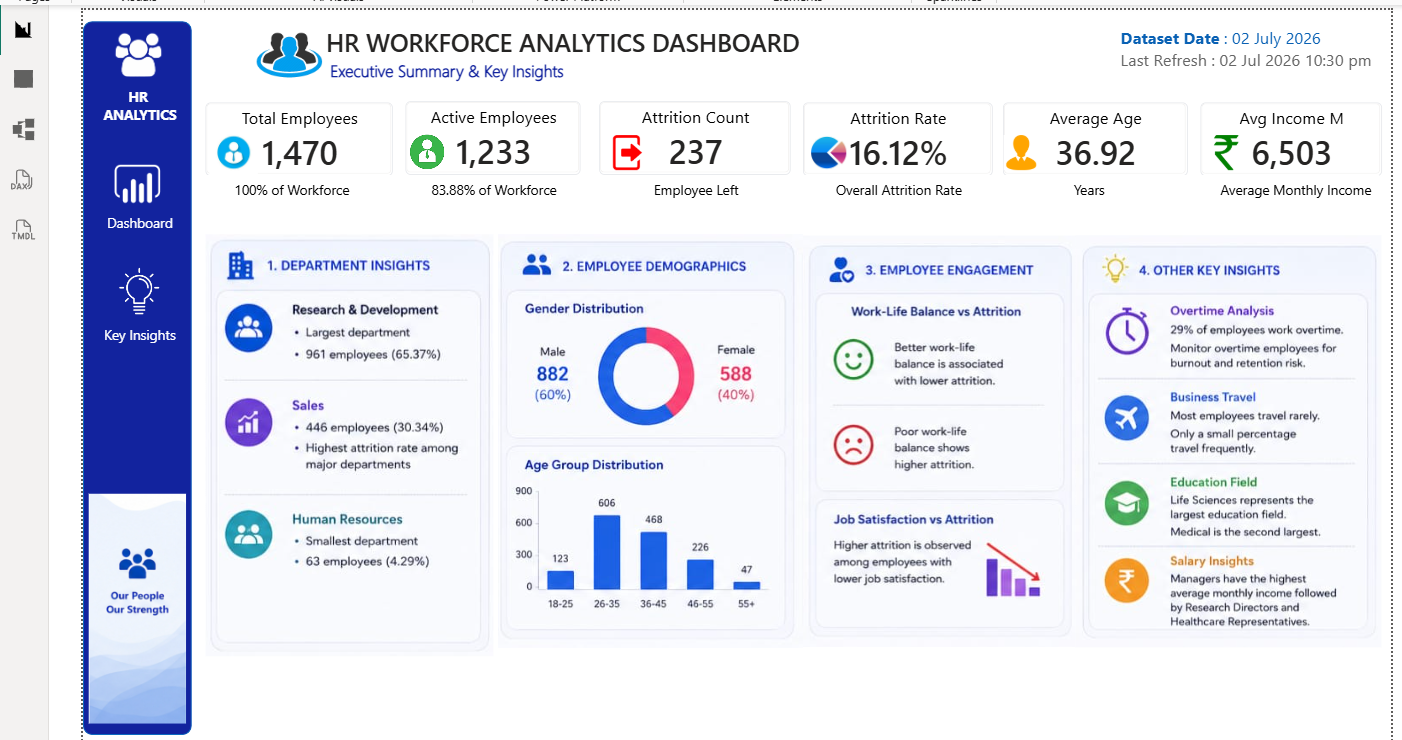

Layout of this report page (visuals, bound fields, positions):
{"tool":"powerbi","page":{"name":"HR_WORKFORCE ANALYTICS","canvas":[1280,720],"ordinal":0},"visuals":[{"type":"shape","box":[9.8,68.5,113.7,639.5],"z":0},{"type":"textbox","box":[199.3,2.4,528.3,86.8],"z":1000},{"type":"textbox","box":[8.6,660.3,111.3,31.8],"z":1000},{"type":"image","box":[155.3,2.4,68.5,66],"z":2000},{"type":"image","box":[12.2,15.9,46.5,36.7],"z":3000},{"type":"textbox","box":[58.7,15.9,108.8,39.1],"z":4000},{"type":"textbox","box":[939.1,2.4,270.2,55],"z":5000},{"type":"cardVisual","fields":{"Data":["hr_analytics employee_data.Total Employees"]},"box":[132.1,68.5,183.4,72.1],"z":6000},{"type":"cardVisual","fields":{"Data":["hr_analytics employee_data.Active Employees"]},"box":[322.8,68.5,171.2,72.1],"z":7000},{"type":"cardVisual","fields":{"Data":["hr_analytics employee_data.Attrition Count"]},"box":[505,68.5,187.1,74.6],"z":8000},{"type":"cardVisual","fields":{"Data":["hr_analytics employee_data.Attrition Rate"]},"box":[700.7,68.5,185.9,74.6],"z":9000},{"type":"cardVisual","fields":{"Data":["hr_analytics employee_data.Average Age"]},"box":[897.6,68.5,181,74.6],"z":10000},{"type":"cardVisual","fields":{"Data":["hr_analytics employee_data.Average Monthly Income"]},"box":[1088.3,68.5,177.3,74.6],"z":11000},{"type":"clusteredColumnChart","title":"EMPLOYEE BY DEPARTMENT","fields":{"Category":["hr_analytics employee_data.Department"],"Y":["CountNonNull(hr_analytics employee_data.EmployeeNumber)"]},"box":[132.1,156.5,303.3,167.5],"z":12000},{"type":"clusteredBarChart","title":"JOB ROLE DISTRIBUTION","fields":{"Category":["hr_analytics employee_data.JobRole"],"Y":["CountNonNull(hr_analytics employee_data.EmployeeNumber)"]},"box":[450,156.5,314.3,167.5],"z":13000},{"type":"donutChart","title":"GENDER DISTRIBUTION","fields":{"Category":["hr_analytics employee_data.Gender"],"Y":["CountNonNull(hr_analytics employee_data.EmployeeNumber)"]},"box":[775.3,157.7,250.7,167.5],"z":14000},{"type":"cardVisual","fields":{"Data":["hr_analytics employee_data.Total Employees"]},"box":[864.5,223.8,74.6,56.3],"z":15000},{"type":"columnChart","title":"AGE GROUP DISTRIBUTION","fields":{"Category":["hr_analytics employee_data.Age Group"],"Y":["CountNonNull(hr_analytics employee_data.EmployeeNumber)"]},"box":[1039.4,157.7,226.2,166.3],"z":16000},{"type":"lineClusteredColumnComboChart","title":"ATTRITION BY DEPARTMENT","fields":{"Category":["hr_analytics employee_data.Department"],"Y":["hr_analytics employee_data.Attrition Count"],"Y2":["hr_analytics employee_data.Attrition Rate"]},"box":[132.1,336.3,303.3,196.9],"z":17000},{"type":"donutChart","title":"OVERTIME VS ATTRITION","fields":{"Category":["hr_analytics employee_data.OverTime"],"Y":["CountNonNull(hr_analytics employee_data.Attrition)"]},"box":[450,336.3,236,196.9],"z":18000},{"type":"lineChart","title":" WORK-LIFE-BALANCE VS ATTRITION","fields":{"Category":["hr_analytics employee_data.WorkLifeBalance"],"Y":["hr_analytics employee_data.Attrition Rate"]},"box":[700.7,336.3,275.1,196.9],"z":19000},{"type":"clusteredColumnChart","title":"ATTRITION BY JOB SATISFACTION","fields":{"Y":["hr_analytics employee_data.Attrition Count"],"Category":["hr_analytics employee_data.Job Satisfaction Level"]},"box":[988,336.3,277.6,196.9],"z":20000},{"type":"treemap","title":"EMPLOYEE COUNT BY EDUTION FIELD","fields":{"Group":["hr_analytics employee_data.EducationField"],"Values":["CountNonNull(hr_analytics employee_data.EmployeeNumber)"]},"box":[132.1,547.8,417,160.2],"z":21000},{"type":"donutChart","title":"BUSINESS TRAVEL DISTRIBUTION","fields":{"Category":["hr_analytics employee_data.BusinessTravel"],"Y":["CountNonNull(hr_analytics employee_data.EmployeeNumber)"]},"box":[568.6,549.1,316.7,160.2],"z":22000},{"type":"funnel","title":"TOP 6 ROLE BY AVG MONTHLY INCOME","fields":{"Category":["hr_analytics employee_data.JobRole"],"Y":["hr_analytics employee_data.Average Monthly Income"]},"box":[897.6,547.8,368.1,160.2],"z":23000},{"type":"slicer","fields":{"Values":["hr_analytics employee_data.Department"]},"box":[8.6,84.4,117.4,72.1],"z":24000},{"type":"slicer","fields":{"Values":["hr_analytics employee_data.JobRole"]},"box":[8.6,170,117.4,72.1],"z":25000},{"type":"slicer","fields":{"Values":["hr_analytics employee_data.Gender"]},"box":[8.6,243.3,117.4,72.1],"z":26000},{"type":"slicer","fields":{"Values":["hr_analytics employee_data.BusinessTravel"]},"box":[8.6,322.8,117.4,72.1],"z":27000},{"type":"slicer","fields":{"Values":["hr_analytics employee_data.OverTime"]},"box":[8.6,406,117.4,57.5],"z":28000},{"type":"image","box":[8.6,472,114.9,236],"z":29000},{"type":"image","box":[132.1,96.6,55,44],"z":30000},{"type":"image","box":[306.9,86.8,84.4,62.4],"z":31000},{"type":"image","box":[513.6,101.5,55,34.2],"z":32000},{"type":"image","box":[700.7,103.9,55,34.2],"z":33000},{"type":"image","box":[897.6,101.5,55,34.2],"z":34000},{"type":"image","box":[1088.3,103.9,55,34.2],"z":35000},{"type":"image","box":[657.9,617.5,42.8,42.8],"z":36000},{"type":"image","box":[541.7,424.3,50.1,39.1],"z":37000},{"type":"actionButton","box":[1216.7,9.8,48.9,40.4],"z":37001}]}

Visuals, with their boxes on the page's 1280x720 design canvas (x1, y1, x2, y2). These are canvas units, not pixel positions in the 1402x740 screenshot, which may show the page scaled, cropped or inside an application window:
shape: detection(10, 68, 124, 708)
textbox: detection(199, 2, 728, 89)
textbox: detection(9, 660, 120, 692)
image: detection(155, 2, 224, 68)
image: detection(12, 16, 59, 53)
textbox: detection(59, 16, 168, 55)
textbox: detection(939, 2, 1209, 57)
cardVisual - hr_analytics employee_data.Total Employees: detection(132, 68, 316, 141)
cardVisual - hr_analytics employee_data.Active Employees: detection(323, 68, 494, 141)
cardVisual - hr_analytics employee_data.Attrition Count: detection(505, 68, 692, 143)
cardVisual - hr_analytics employee_data.Attrition Rate: detection(701, 68, 887, 143)
cardVisual - hr_analytics employee_data.Average Age: detection(898, 68, 1079, 143)
cardVisual - hr_analytics employee_data.Average Monthly Income: detection(1088, 68, 1266, 143)
"EMPLOYEE BY DEPARTMENT" clusteredColumnChart: detection(132, 156, 435, 324)
"JOB ROLE DISTRIBUTION" clusteredBarChart: detection(450, 156, 764, 324)
"GENDER DISTRIBUTION" donutChart: detection(775, 158, 1026, 325)
cardVisual - hr_analytics employee_data.Total Employees: detection(864, 224, 939, 280)
"AGE GROUP DISTRIBUTION" columnChart: detection(1039, 158, 1266, 324)
"ATTRITION BY DEPARTMENT" lineClusteredColumnComboChart: detection(132, 336, 435, 533)
"OVERTIME VS ATTRITION" donutChart: detection(450, 336, 686, 533)
" WORK-LIFE-BALANCE VS ATTRITION" lineChart: detection(701, 336, 976, 533)
"ATTRITION BY JOB SATISFACTION" clusteredColumnChart: detection(988, 336, 1266, 533)
"EMPLOYEE COUNT BY EDUTION FIELD" treemap: detection(132, 548, 549, 708)
"BUSINESS TRAVEL DISTRIBUTION" donutChart: detection(569, 549, 885, 709)
"TOP 6 ROLE BY AVG MONTHLY INCOME" funnel: detection(898, 548, 1266, 708)
slicer - hr_analytics employee_data.Department: detection(9, 84, 126, 156)
slicer - hr_analytics employee_data.JobRole: detection(9, 170, 126, 242)
slicer - hr_analytics employee_data.Gender: detection(9, 243, 126, 315)
slicer - hr_analytics employee_data.BusinessTravel: detection(9, 323, 126, 395)
slicer - hr_analytics employee_data.OverTime: detection(9, 406, 126, 464)
image: detection(9, 472, 124, 708)
image: detection(132, 97, 187, 141)
image: detection(307, 87, 391, 149)
image: detection(514, 102, 569, 136)
image: detection(701, 104, 756, 138)
image: detection(898, 102, 953, 136)
image: detection(1088, 104, 1143, 138)
image: detection(658, 618, 701, 660)
image: detection(542, 424, 592, 463)
actionButton: detection(1217, 10, 1266, 50)
